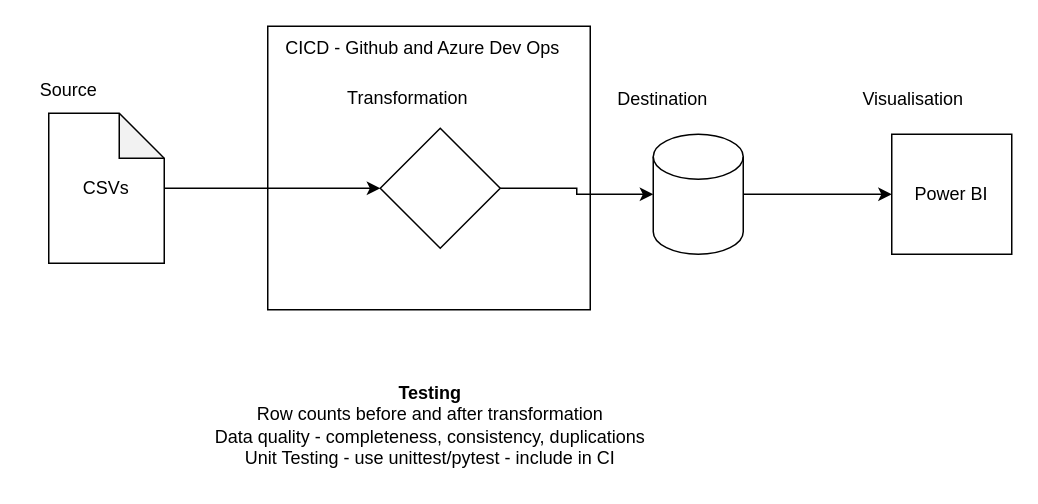
The diagram is 1038 pixels wide and 504 high, and some of its shapes have lost their labels. The centre of each missing label's shape, as x and y in pixels:
"Python" belongs at [439,187].
"SQL" belongs at [697,193].
